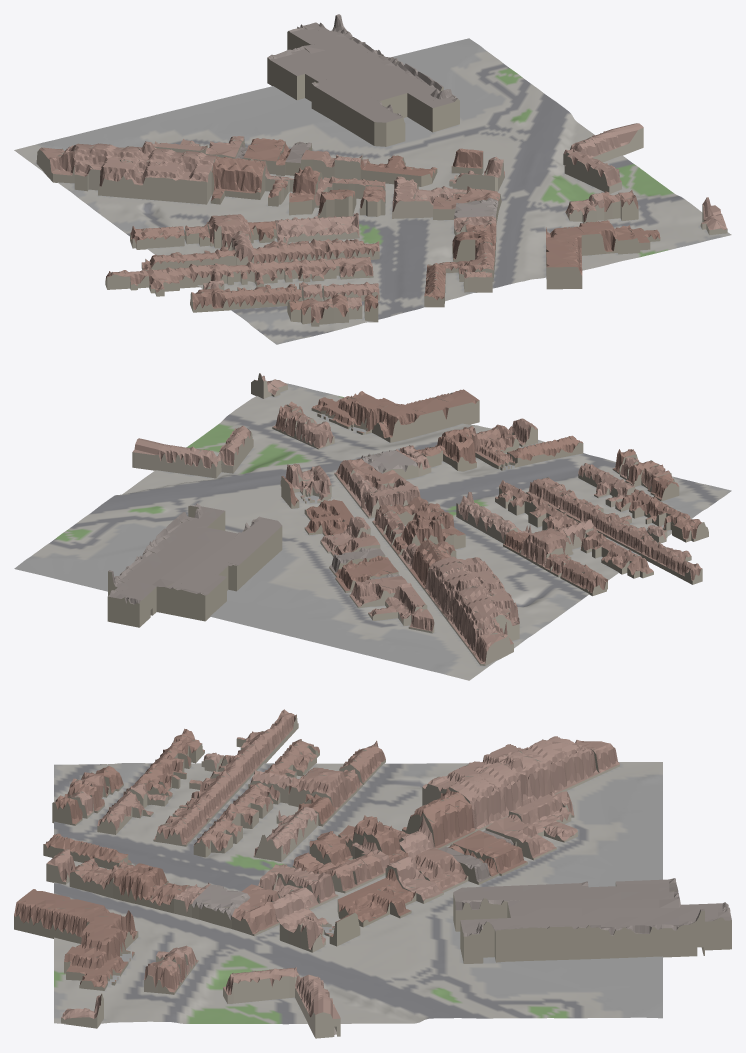
3 renders of one model, top to bottom at view 1: azimuth 30°, elevation 25°; view 2: azimuth 150°, elevation 25°; view 3: azimuth 270°, elevation 25°, orthographic. The views are drawn at different scales.
Parts seen in each view (by area): view 1: ground, b:way/93900112, b:way/104591113, b:way/172021734, b:way/200575098, b:way/171282500, b:way/172029470, b:way/972913152, b:way/171152268, b:way/3987107, b:way/106102734, b:way/1037936460 (+26 smaller); view 2: ground, b:way/93900112, b:way/104591113, b:way/200575098, b:way/172021734, b:way/3987107, b:way/172029470, b:way/171282500, b:way/171282501, b:way/171285872, b:way/1037936463, b:way/171152268 (+27 smaller); view 3: ground, b:way/93900112, b:way/104591113, b:way/200575098, b:way/172021734, b:way/171282500, b:way/972913152, b:way/1037936460, b:way/172029470, b:way/106102734, b:way/3987107, b:way/171152268 (+36 smaller).
Part boxes in pixels (bbox=[...]): ground: bbox=[14, 38, 731, 344]; b:way/93900112: bbox=[267, 14, 459, 146]; b:way/104591113: bbox=[58, 141, 218, 204]; b:way/172021734: bbox=[105, 256, 373, 296]; b:way/200575098: bbox=[546, 220, 660, 289]; b:way/171282500: bbox=[251, 238, 379, 263]; b:way/172029470: bbox=[190, 284, 302, 312]; b:way/972913152: bbox=[210, 157, 267, 204]; b:way/171152268: bbox=[275, 212, 359, 244]; b:way/3987107: bbox=[563, 123, 643, 165]; b:way/106102734: bbox=[564, 149, 621, 193]; b:way/1037936460: bbox=[360, 155, 437, 186]; ground: bbox=[14, 383, 731, 680]; b:way/93900112: bbox=[107, 503, 282, 627]; b:way/104591113: bbox=[424, 556, 519, 654]; b:way/200575098: bbox=[311, 389, 479, 442]; b:way/172021734: bbox=[525, 477, 702, 584]; b:way/3987107: bbox=[132, 438, 221, 478]; b:way/172029470: bbox=[615, 489, 708, 542]; b:way/171282500: bbox=[495, 480, 578, 530]; b:way/171282501: bbox=[580, 528, 653, 578]; b:way/171285872: bbox=[468, 424, 519, 470]; b:way/1037936463: bbox=[391, 515, 465, 556]; b:way/171152268: bbox=[456, 492, 531, 543]; ground: bbox=[54, 762, 662, 1024]; b:way/93900112: bbox=[453, 878, 731, 963]; b:way/104591113: bbox=[422, 736, 599, 831]; b:way/200575098: bbox=[14, 889, 138, 990]; b:way/172021734: bbox=[153, 709, 298, 846]; b:way/171282500: bbox=[193, 783, 280, 857]; b:way/972913152: bbox=[402, 788, 475, 849]; b:way/1037936460: bbox=[337, 869, 416, 927]; b:way/172029470: bbox=[131, 728, 204, 800]; b:way/106102734: bbox=[223, 967, 299, 1003]; b:way/3987107: bbox=[295, 974, 340, 1038]; b:way/171152268: bbox=[253, 806, 318, 861].
Bounding box in the file's own units: 302 × 23.13 × 295.
